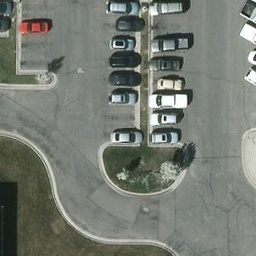car: (151, 34, 191, 51), (148, 91, 187, 108), (20, 19, 53, 36), (108, 50, 139, 66), (147, 1, 188, 13), (103, 1, 140, 14), (111, 128, 142, 143), (107, 88, 138, 103), (149, 130, 180, 145), (147, 112, 178, 127), (154, 75, 185, 90), (149, 56, 180, 71), (110, 70, 141, 85), (113, 16, 143, 30), (106, 35, 136, 48)
